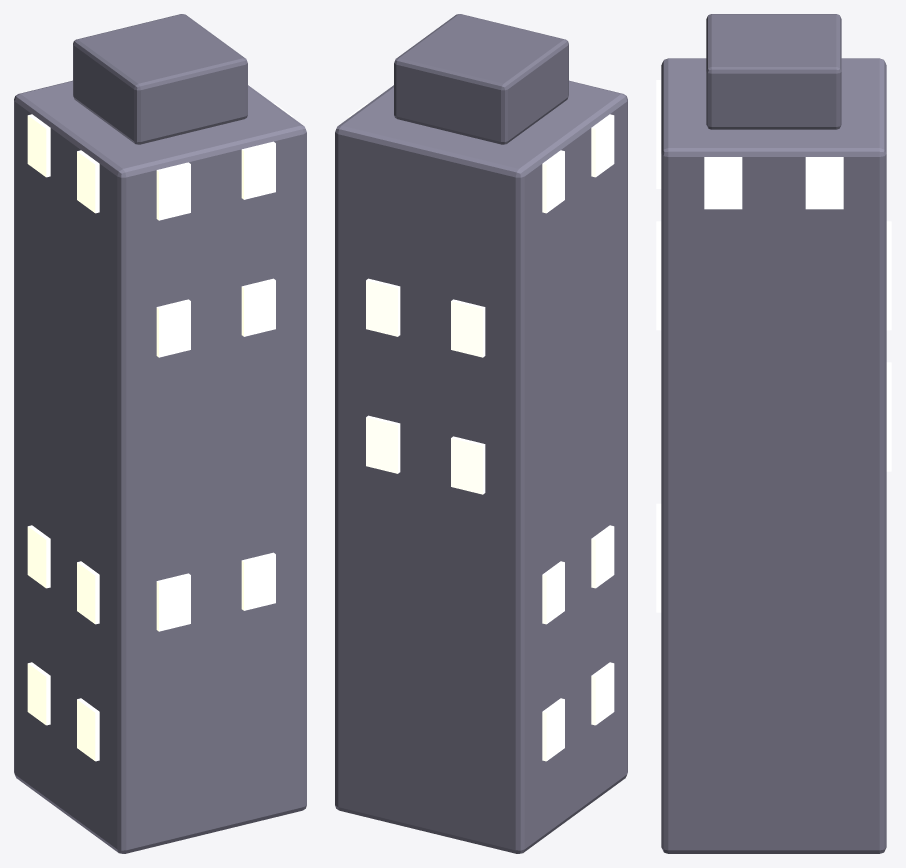
The model's file is tower_c.glb.
3 renders of one model, left to right at view 1: azimuth 30°, elevation 25°; view 2: azimuth 150°, elevation 25°; view 3: azimuth 270°, elevation 25°, orthographic. The views are drawn at different scales.
Visible parts, largest first — view 1: Tower, Windows, Roof; view 2: Tower, Roof, Windows; view 3: Tower, Roof, Windows.
Part boxes in pixels (x1=…): Tower: x1=14, y1=80, x2=306, y2=853; Windows: x1=27, y1=103, x2=293, y2=761; Roof: x1=73, y1=14, x2=247, y2=144; Tower: x1=335, y1=80, x2=627, y2=853; Roof: x1=394, y1=14, x2=568, y2=144; Windows: x1=348, y1=103, x2=614, y2=761; Tower: x1=661, y1=58, x2=886, y2=853; Roof: x1=706, y1=14, x2=841, y2=129; Windows: x1=656, y1=80, x2=891, y2=612.
Size of the model in its own units: 1.36 by 4.9 by 1.36.
